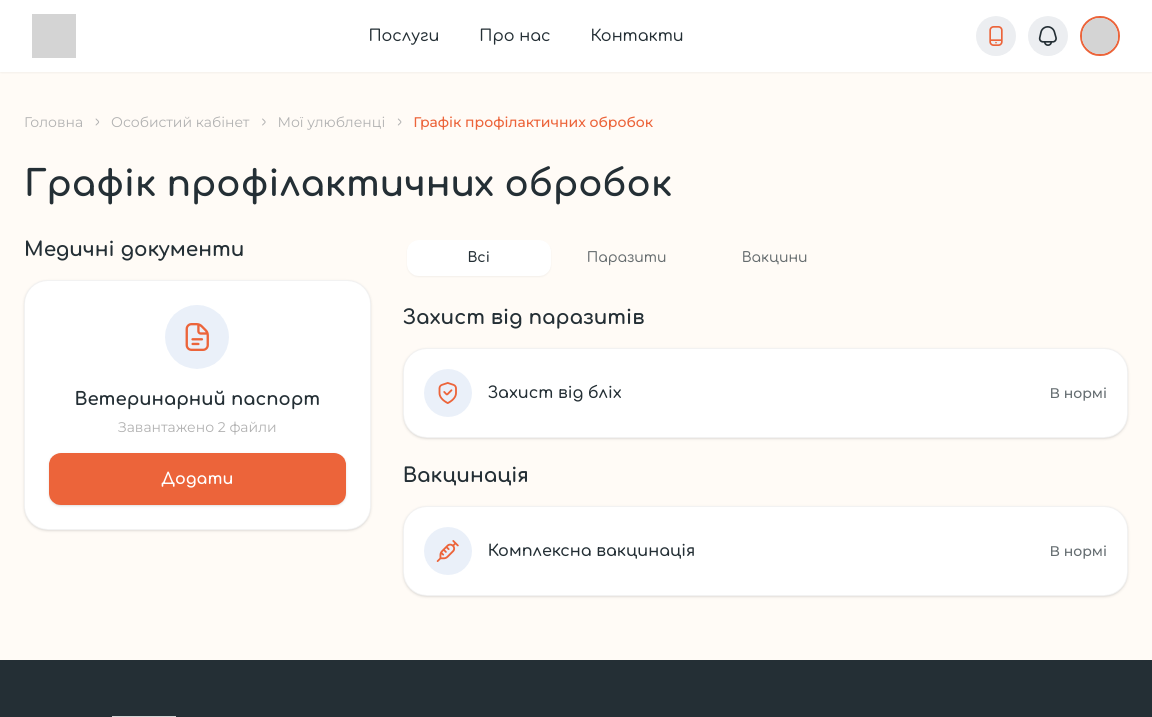
Test: PetCareSchedulePage › filters schedule cards by tab selection
Expected: the heading "Захист від бліх" is shown, [488, 381, 622, 405]
Expected: the heading "Комплексна вакцинація" is shown, [488, 539, 695, 563]
What coordinates should you click on to do the following:
click the tab "Паразити"
I would click on:
 (627, 258)
Its box is [555, 240, 699, 276].
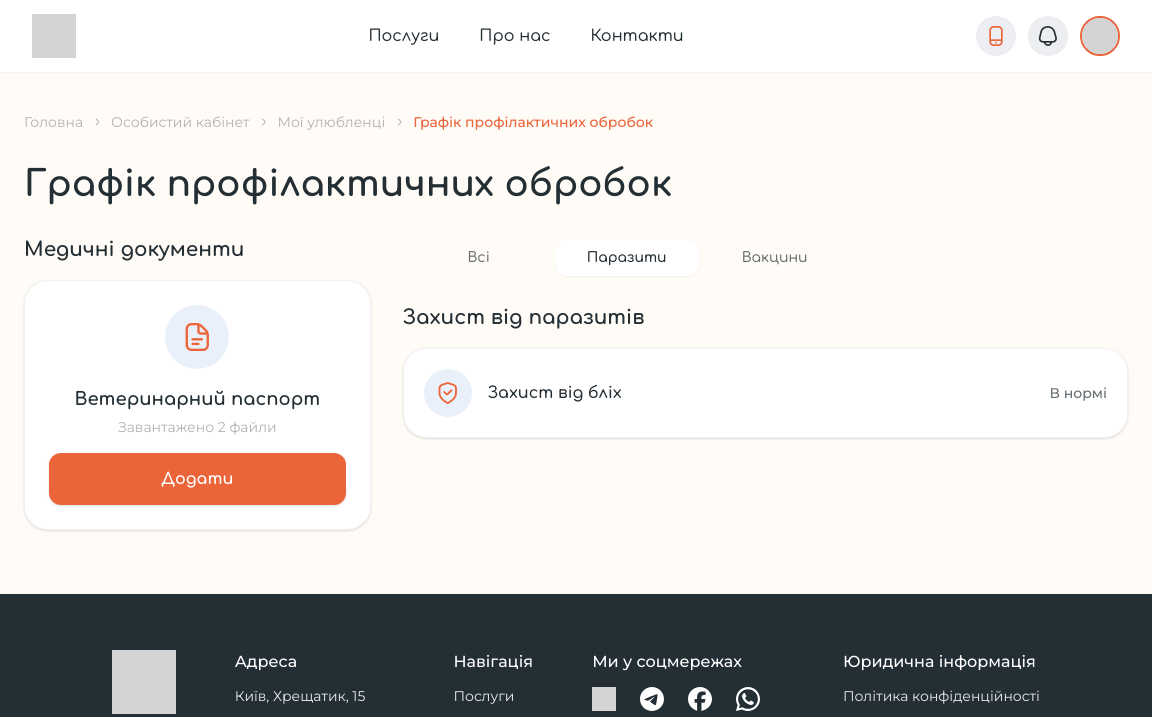
Expected: the heading "Захист від бліх" is shown, [488, 381, 622, 405]
Expected: the heading "Комплексна вакцинація" is gone
What coordinates should you click on to do the following:
click the tab "Вакцини"
I would click on:
 (775, 258)
Its box is [703, 240, 847, 276].
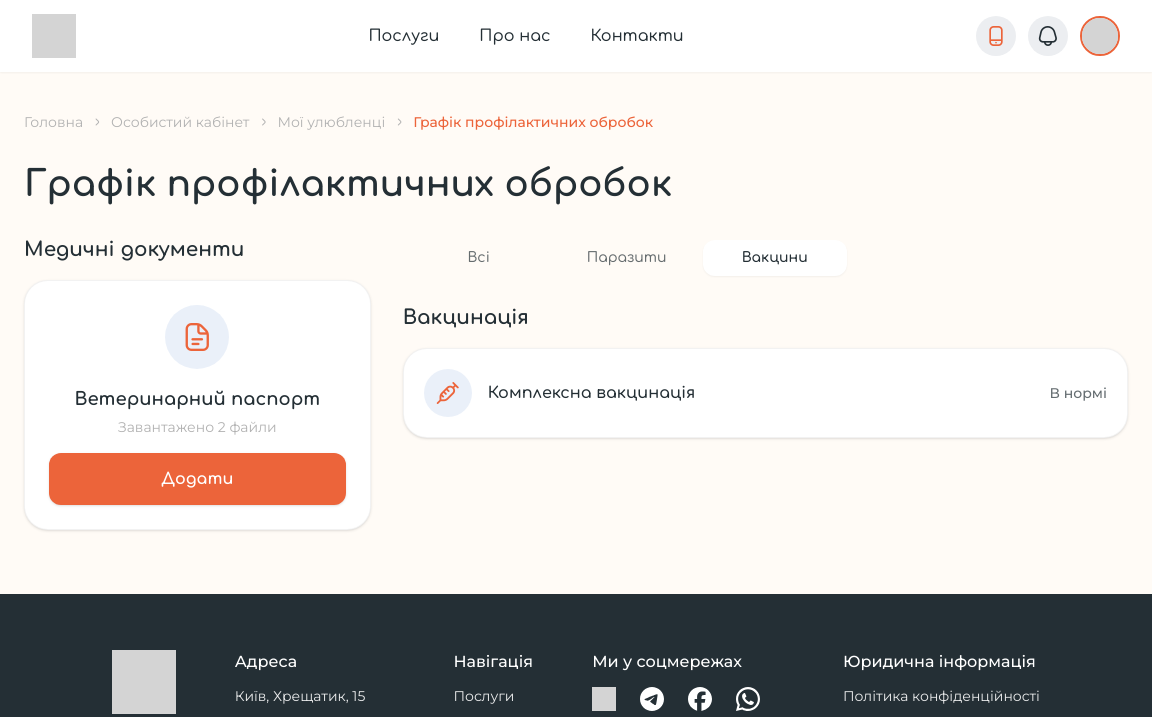
Expected: the heading "Захист від бліх" is gone
Expected: the heading "Комплексна вакцинація" is shown, [488, 381, 695, 405]
What coordinates should you click on to do the following:
click the tab "Всі"
I would click on:
 (479, 258)
Its box is [407, 240, 551, 276].
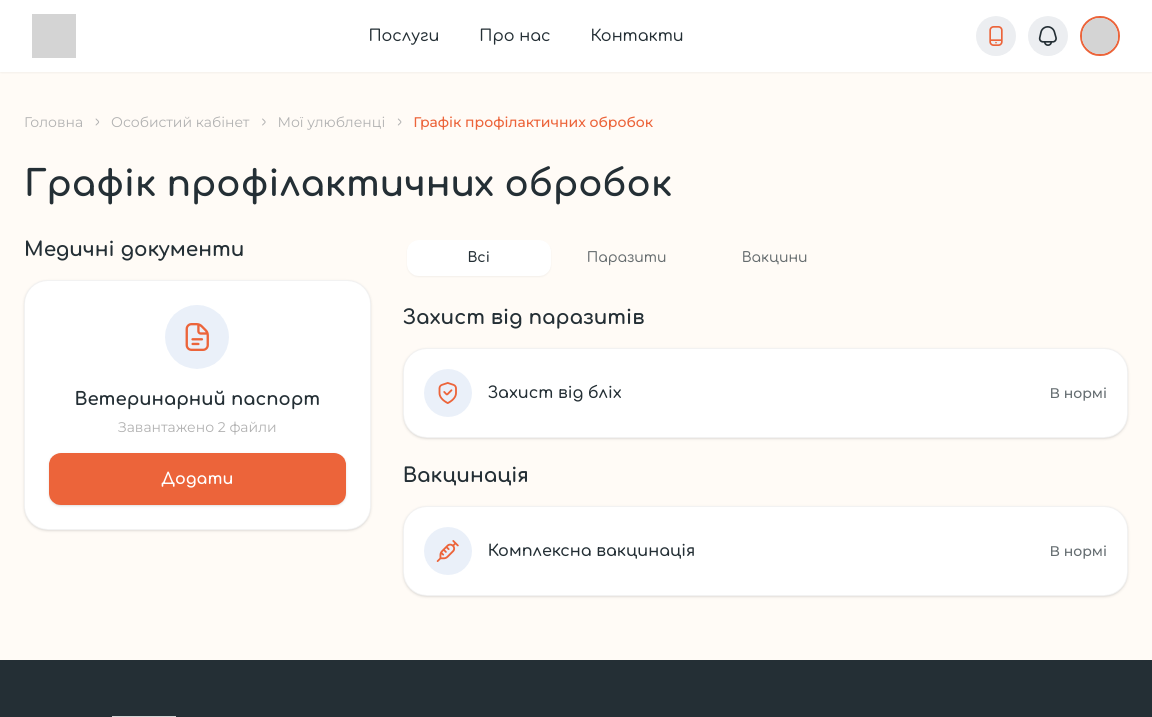
Expected: the heading "Комплексна вакцинація" is shown, [488, 539, 695, 563]
Expected: the heading "Захист від бліх" is shown, [488, 381, 622, 405]
